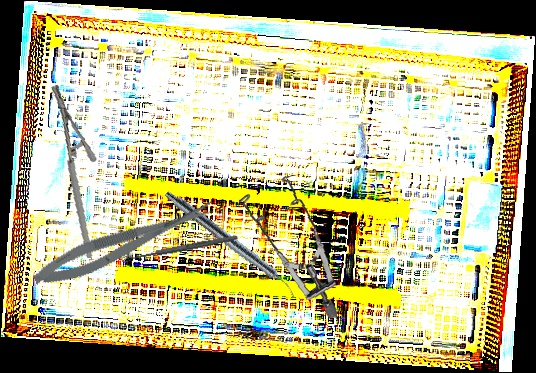Handpiece: (160, 188, 302, 299)
Micro Scissor: (28, 194, 220, 294)
Needle Holder: (27, 84, 116, 259)
Speculum: (229, 171, 349, 319)
Surgical Spoon: (120, 233, 239, 264)
